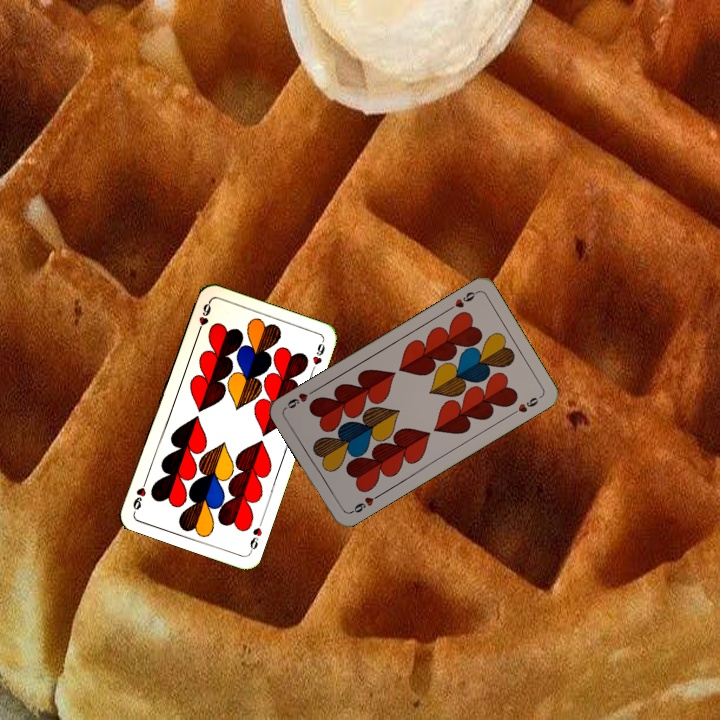H9: (444, 287, 480, 314), (346, 490, 382, 516), (193, 298, 214, 337), (245, 516, 265, 555)
